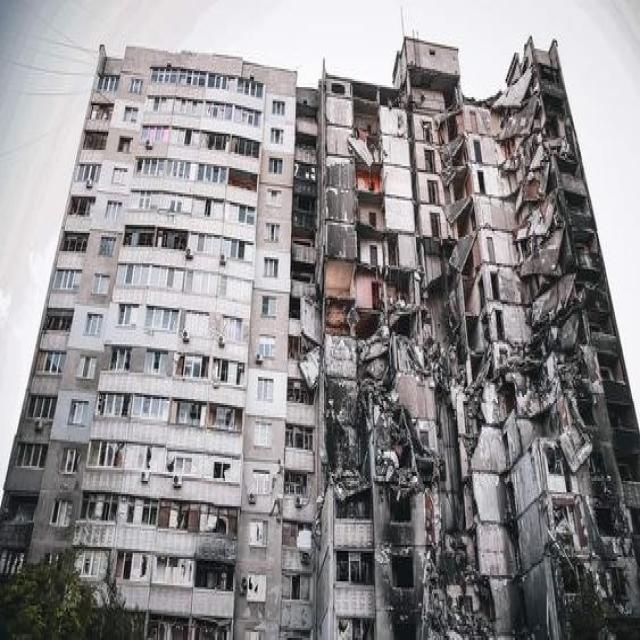building: (0, 40, 299, 638)
roof: (1, 26, 638, 636)
